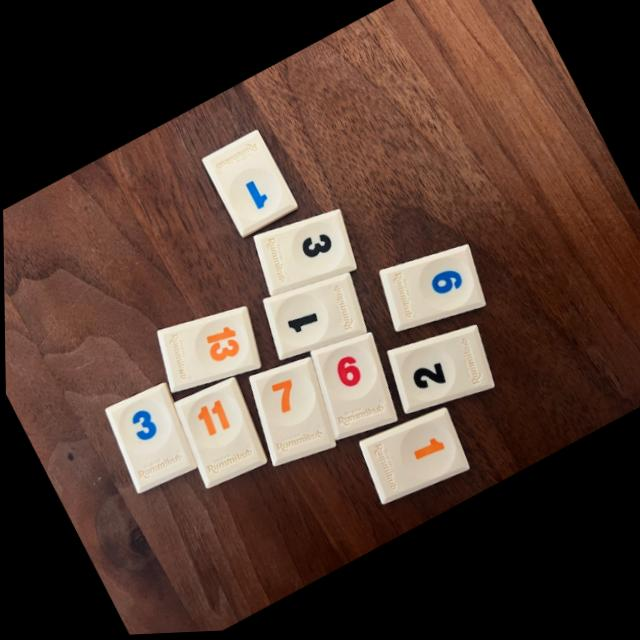black_1: (261, 275, 365, 362)
black_2: (386, 329, 492, 417)
black_3: (252, 211, 356, 298)
blue_1: (201, 133, 297, 239)
blue_3: (105, 384, 195, 494)
blue_6: (378, 248, 484, 335)
orange_1: (359, 411, 468, 507)
orange_11: (173, 379, 266, 489)
orange_13: (156, 308, 260, 394)
orange_7: (249, 360, 334, 468)
red_6: (310, 336, 396, 442)
